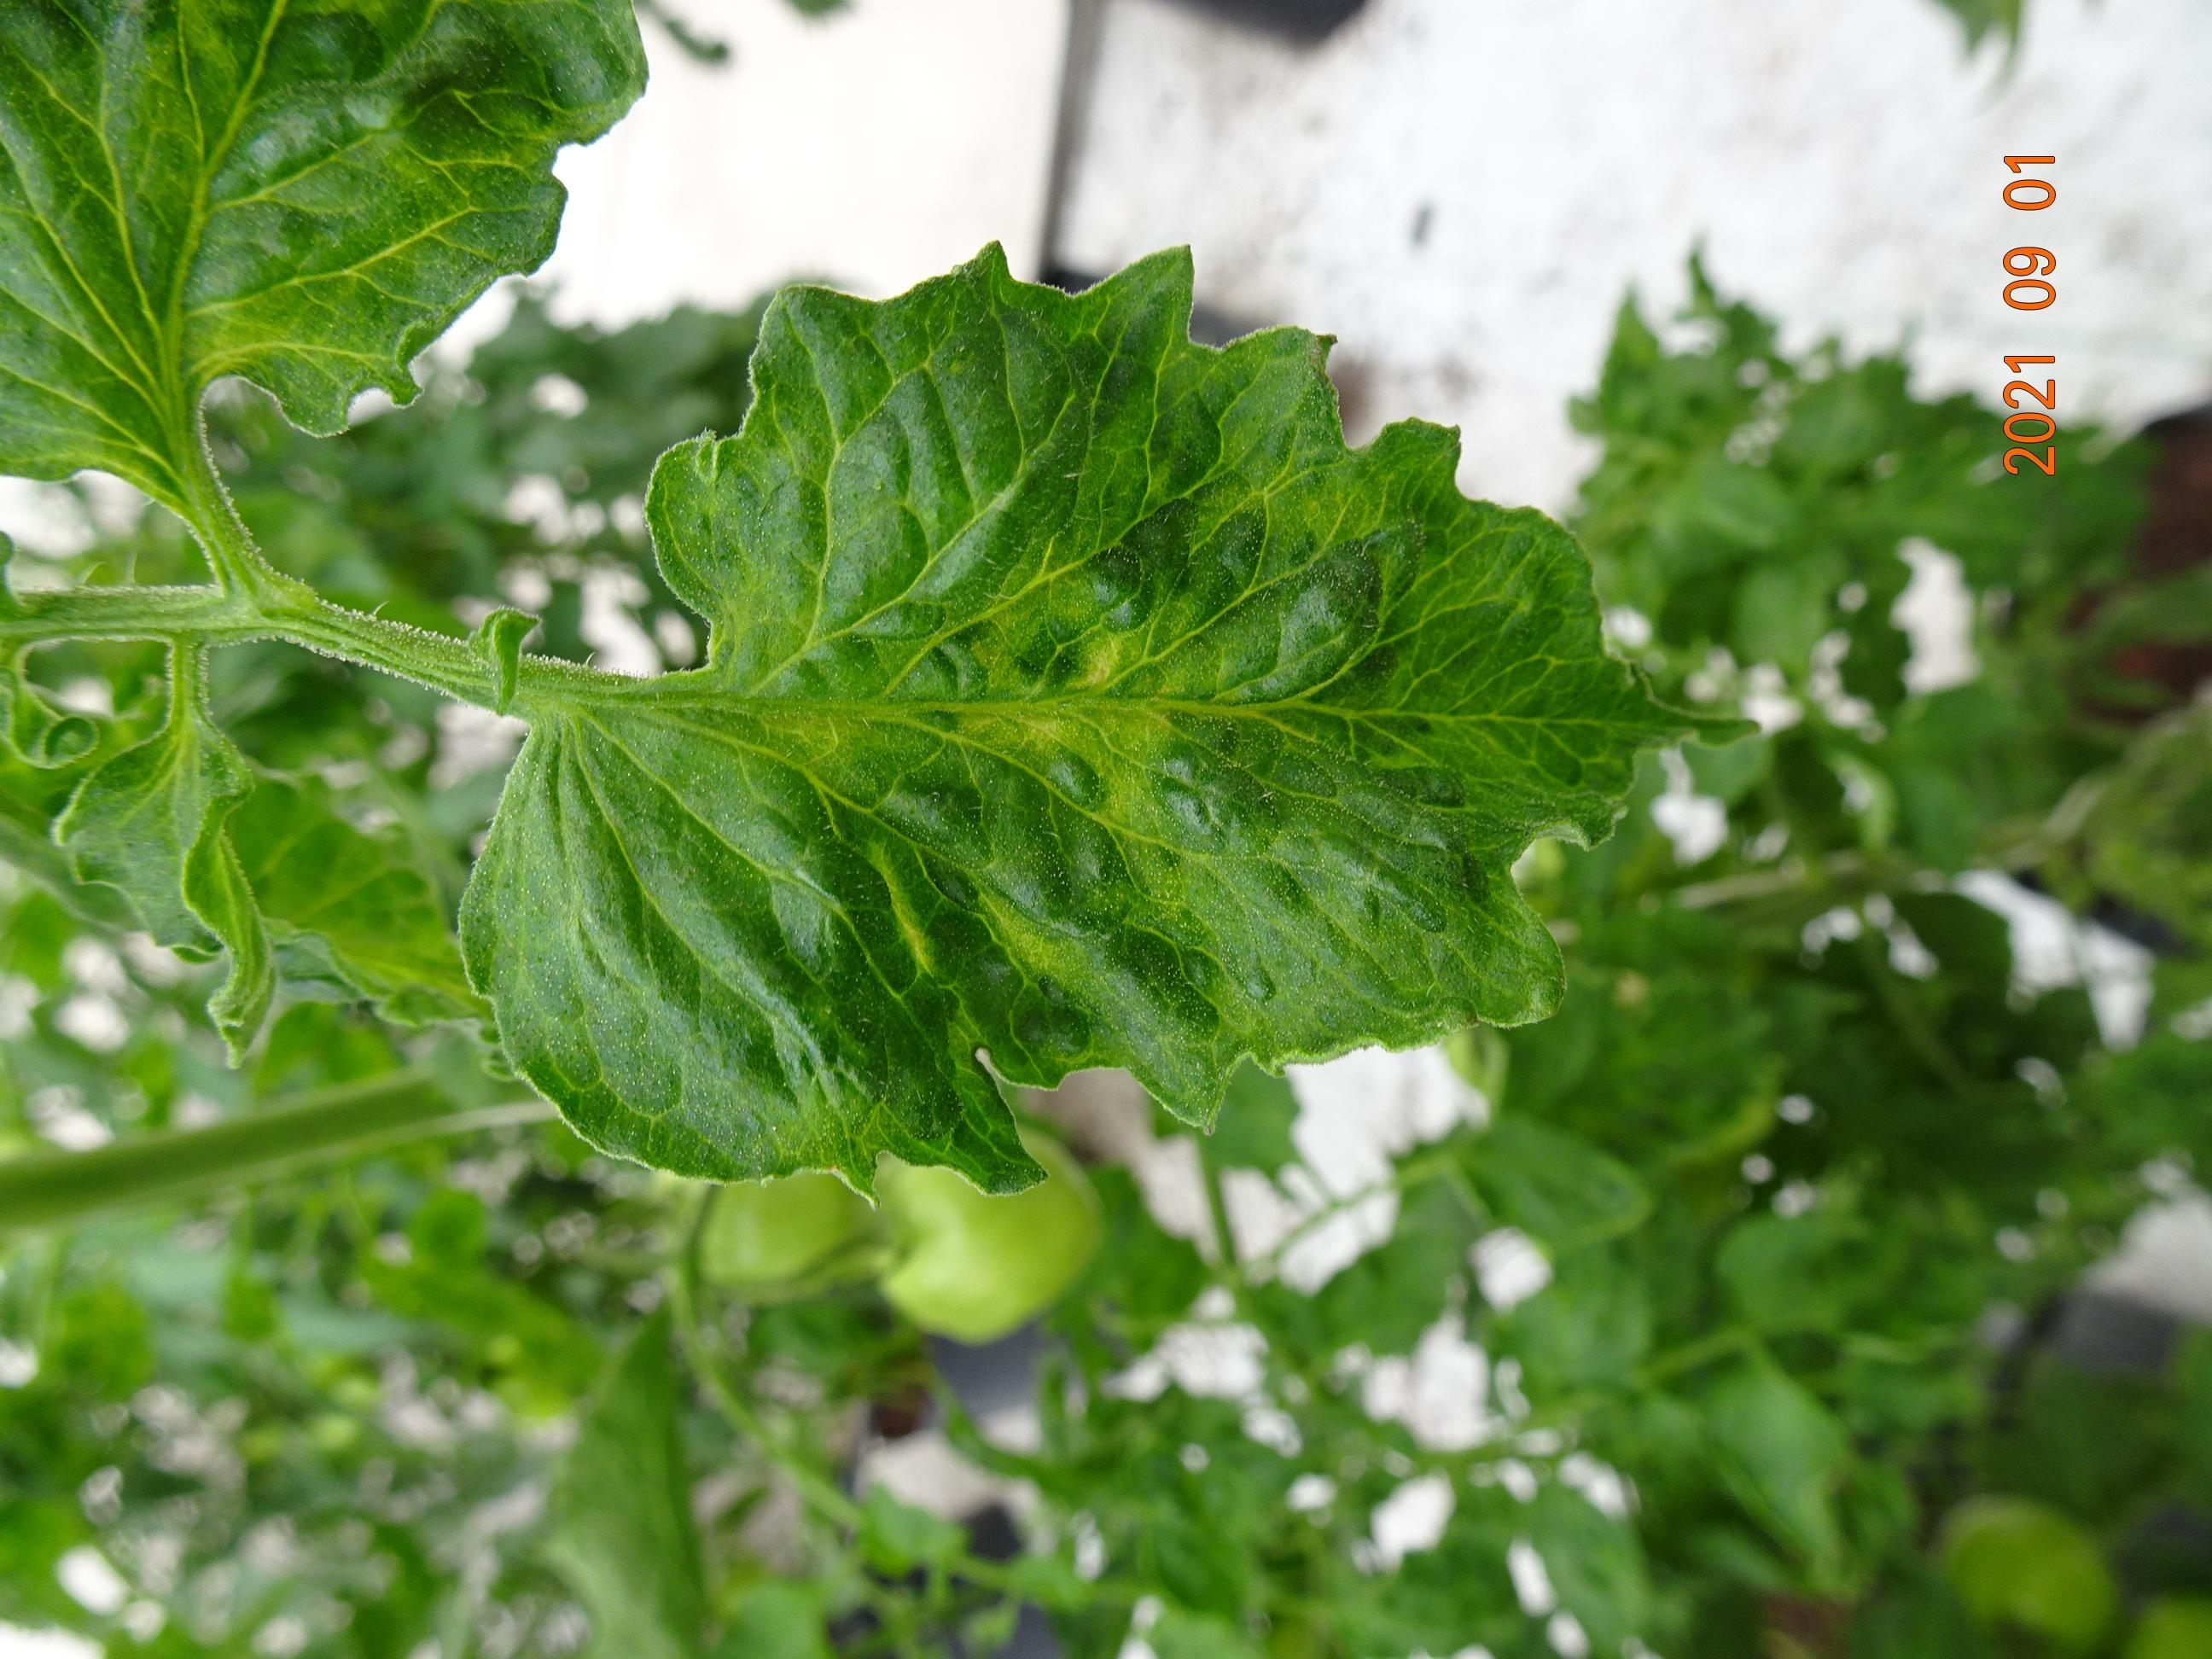Hoja rugoso: (462, 251, 1684, 1188), (56, 640, 272, 1063)
